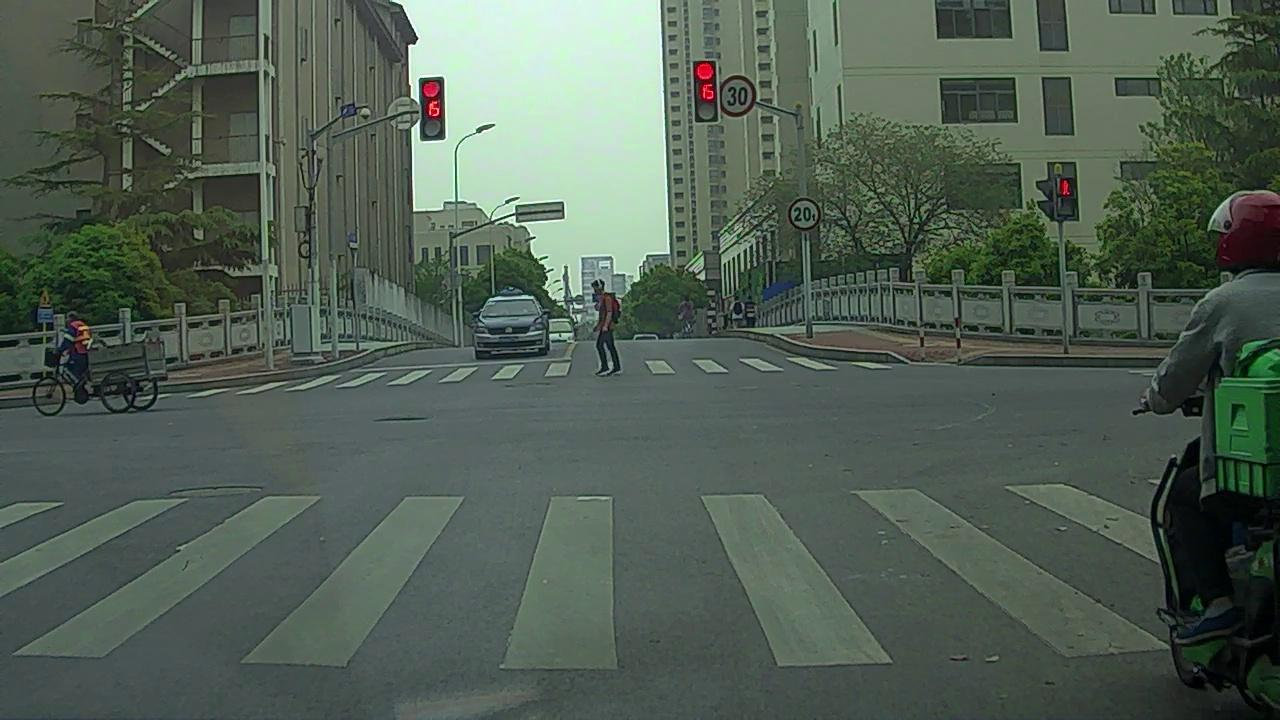traffic_light: (421, 77, 446, 139), (693, 60, 717, 124)
